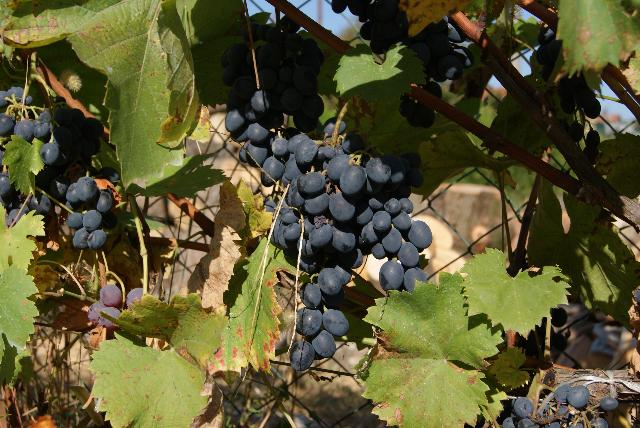grapes: (270, 134, 431, 371), (0, 86, 120, 250), (220, 16, 324, 186), (88, 285, 124, 329)
